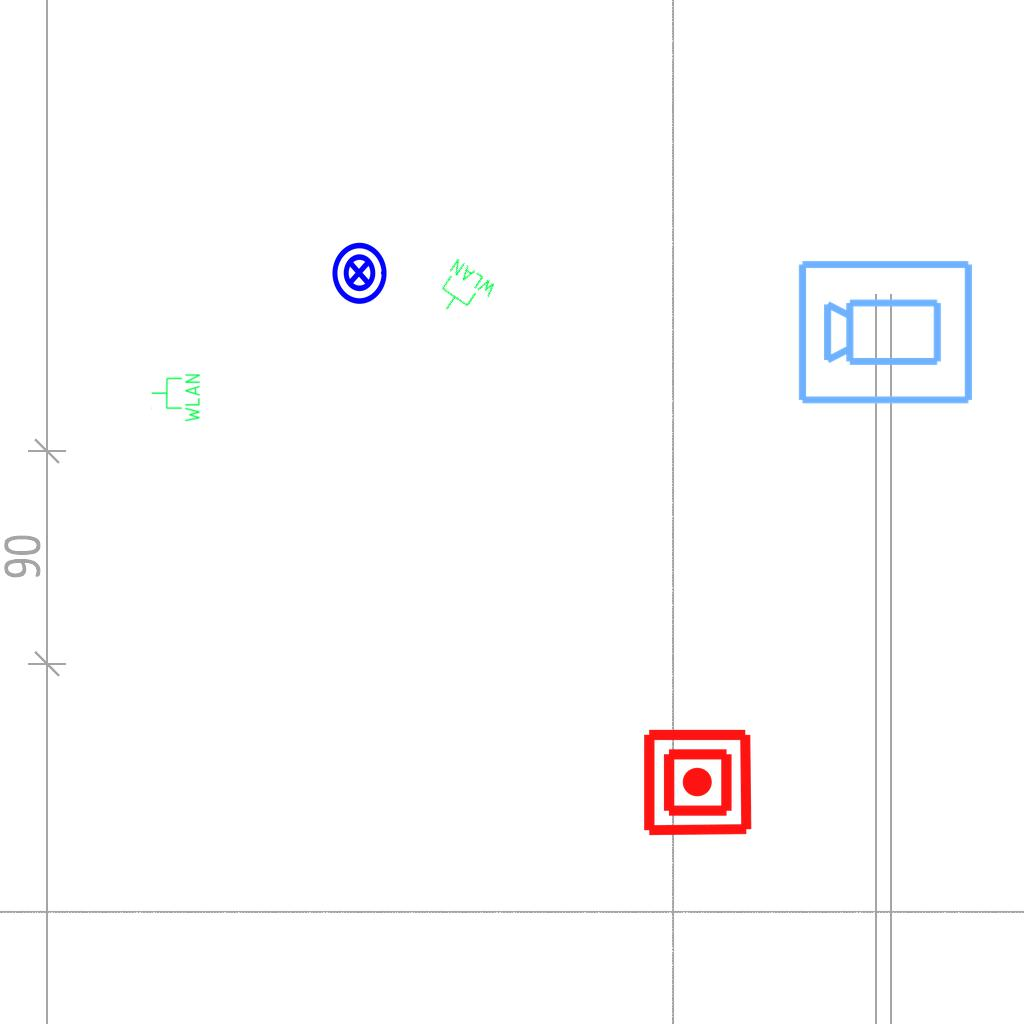KFO_Kamera_mit_Festobjektiv: (795, 254, 977, 408)
NAM-Nichtautomatischer_Melder: (641, 726, 754, 839)
Taster_beleuchtet: (326, 240, 392, 306)
WLAN: (427, 255, 501, 329), (150, 372, 202, 424)
